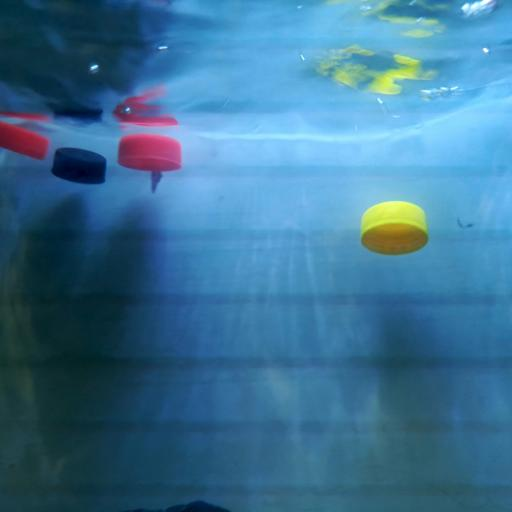bottle_cap: (360, 200, 429, 256), (118, 133, 182, 172), (51, 147, 107, 185), (0, 120, 50, 162)
